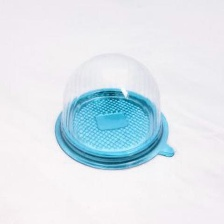plastic_box: (44, 42, 180, 176)
